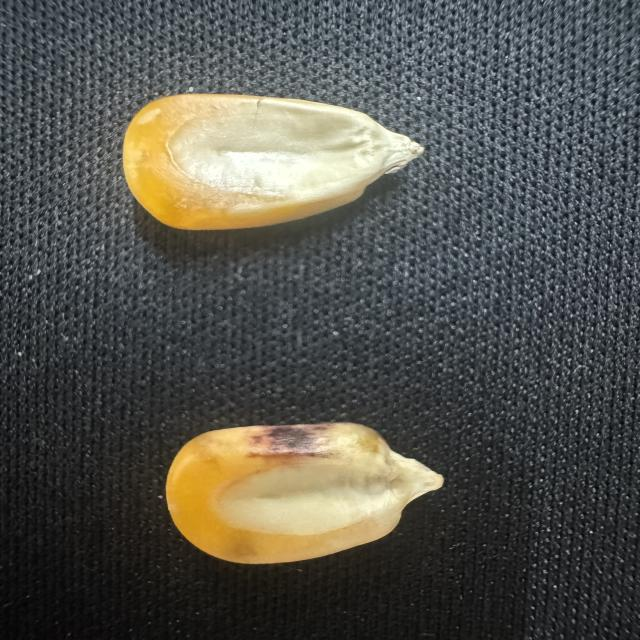Bad-Seed: (160, 418, 446, 568)
Good-Seed: (114, 87, 428, 236)
